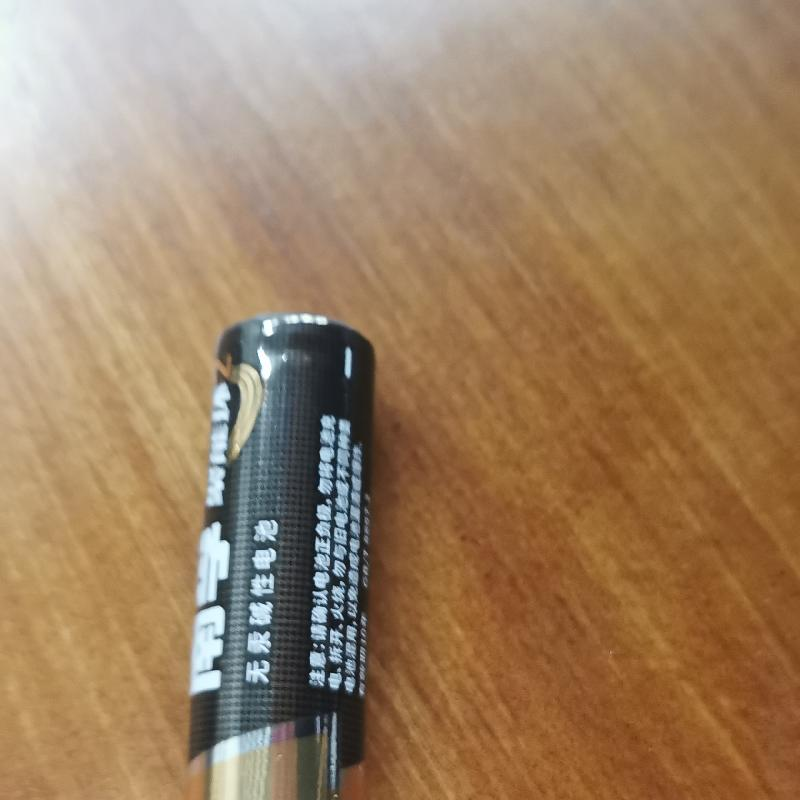battery: (180, 301, 395, 800)
